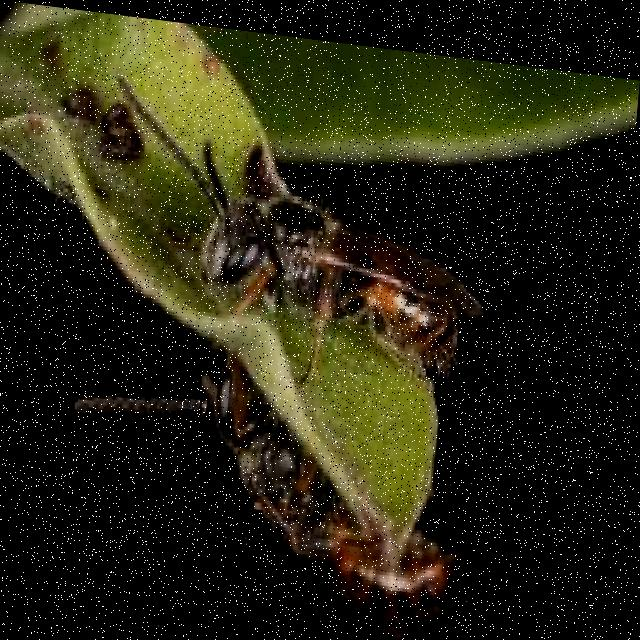Lasioglossum: (149, 294, 500, 640), (135, 73, 514, 385)
